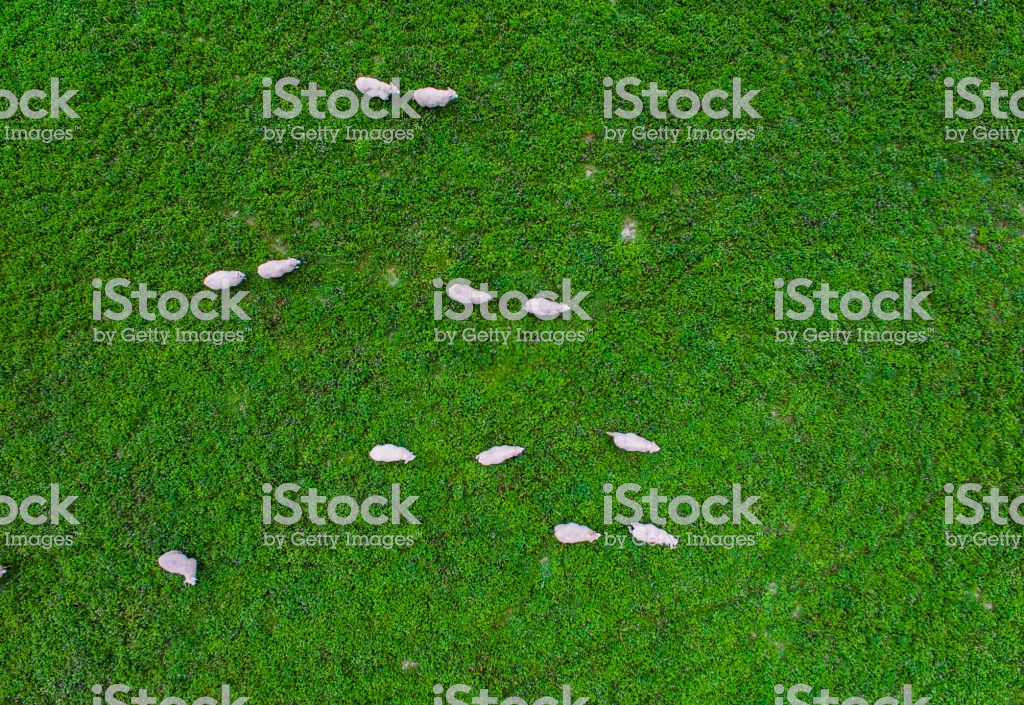sheep: (155, 545, 200, 586), (626, 516, 679, 550), (354, 72, 399, 105), (608, 427, 659, 455), (473, 443, 529, 468), (445, 282, 494, 310), (410, 84, 460, 111), (522, 295, 571, 322), (255, 257, 303, 284), (554, 522, 601, 549), (368, 440, 416, 465), (203, 267, 243, 294)
